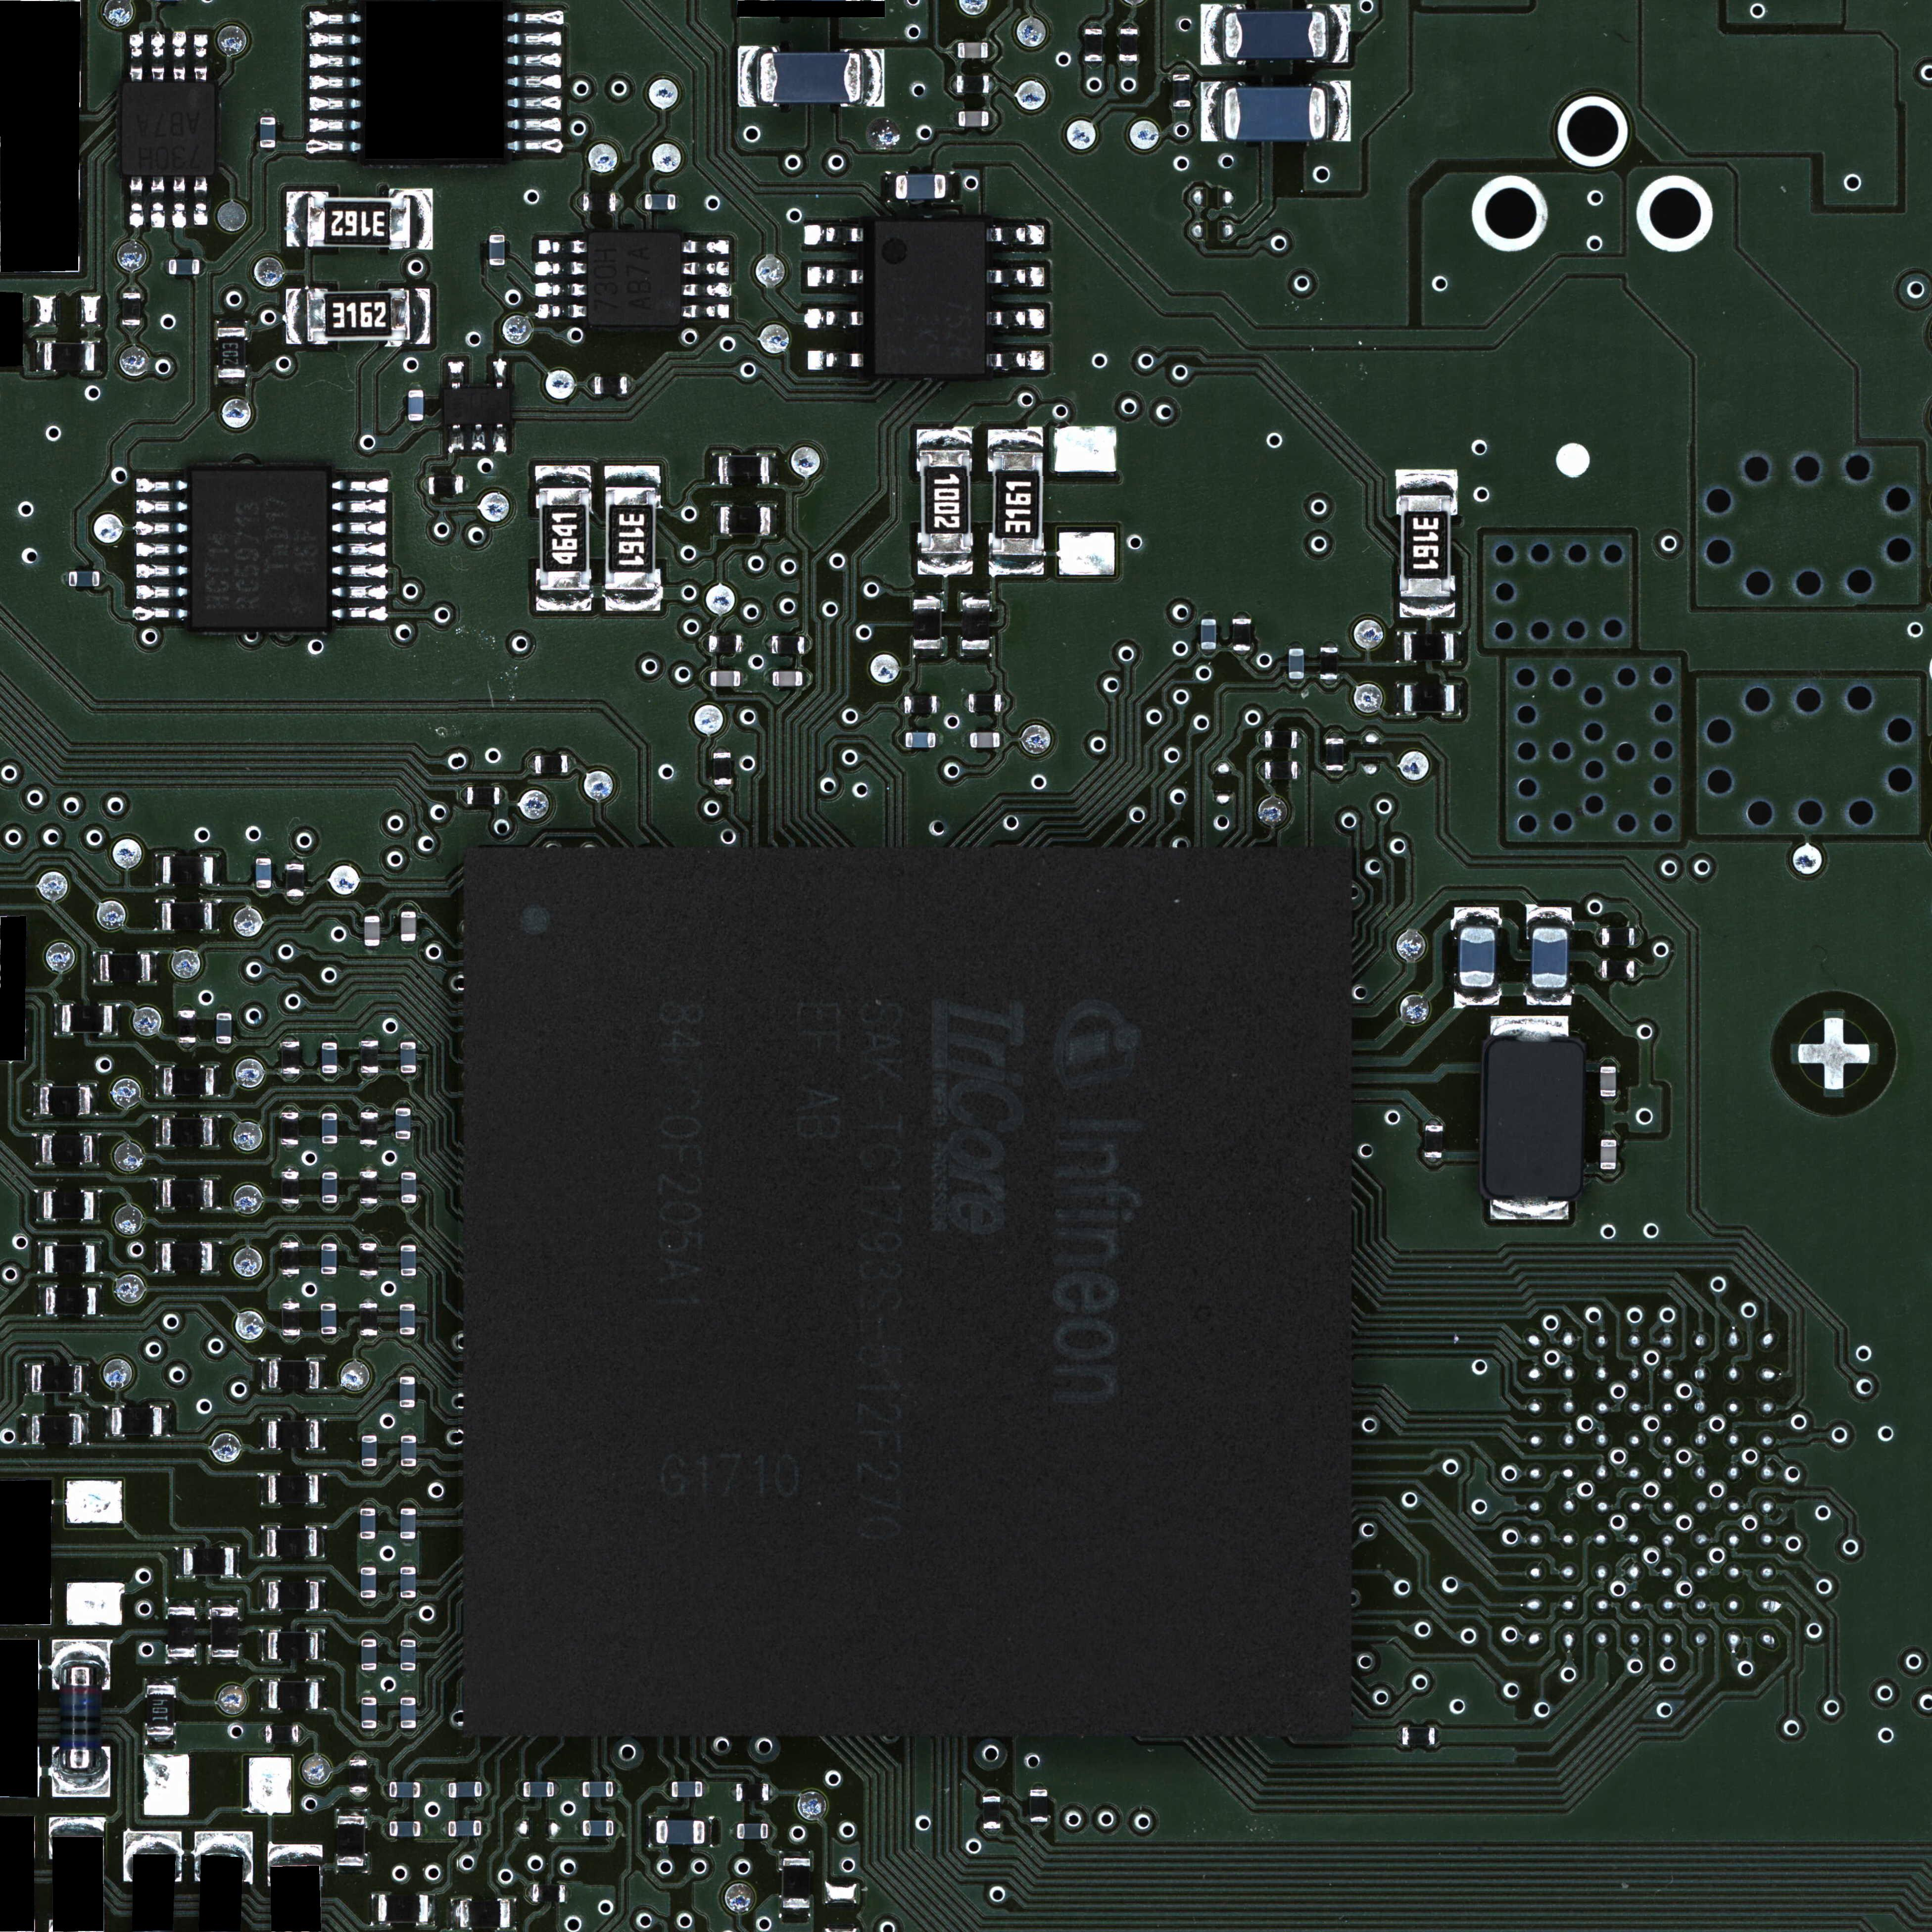Package: (465, 846, 1352, 1734), (189, 467, 329, 628), (872, 221, 985, 373), (1484, 1040, 1585, 1198), (587, 232, 681, 326), (120, 83, 216, 175), (989, 451, 1044, 556), (916, 451, 973, 552), (536, 488, 591, 591), (1399, 495, 1454, 596), (1224, 87, 1327, 140), (308, 196, 410, 248), (308, 290, 410, 341), (607, 488, 658, 589), (1224, 11, 1329, 58), (761, 53, 860, 103), (60, 1663, 101, 1773), (442, 389, 511, 423), (1460, 927, 1495, 987), (1532, 929, 1568, 987), (718, 455, 768, 485), (211, 1606, 239, 1658), (782, 1858, 810, 1909), (269, 1476, 318, 1504), (32, 1415, 81, 1444), (267, 1529, 317, 1557), (62, 1005, 111, 1033), (41, 1086, 90, 1115), (913, 598, 941, 648), (720, 506, 770, 534), (379, 1895, 428, 1923), (269, 1582, 318, 1610), (218, 327, 244, 379), (338, 1815, 364, 1867), (1405, 633, 1453, 662), (101, 954, 149, 982), (147, 1686, 175, 1734), (113, 1407, 161, 1435), (895, 173, 945, 200), (1405, 685, 1454, 711), (32, 1366, 81, 1392), (269, 1683, 318, 1709), (163, 902, 212, 929), (269, 1361, 318, 1387), (163, 1244, 212, 1270), (46, 1246, 96, 1272), (163, 856, 212, 883), (269, 1421, 318, 1447), (163, 1118, 212, 1145), (165, 1069, 214, 1095), (184, 1548, 234, 1575), (163, 1180, 212, 1207), (46, 1288, 96, 1315), (44, 343, 94, 370), (269, 1633, 318, 1660), (44, 1192, 94, 1219), (168, 1606, 195, 1656), (42, 1136, 92, 1162), (460, 1900, 510, 1927), (962, 600, 989, 649), (656, 1821, 704, 1844), (1424, 1123, 1444, 1159), (771, 635, 805, 655), (1325, 738, 1345, 771), (281, 1302, 301, 1336), (280, 1111, 299, 1145), (285, 863, 304, 897), (982, 1796, 1001, 1829), (122, 294, 142, 326), (534, 755, 568, 773), (1601, 961, 1635, 978), (713, 752, 731, 786), (1085, 28, 1102, 62), (359, 1242, 377, 1276), (265, 1725, 299, 1743), (359, 1302, 377, 1336), (1030, 1789, 1047, 1822), (281, 1040, 299, 1074), (582, 193, 616, 211), (1601, 927, 1635, 945), (968, 694, 1001, 711), (1401, 1727, 1435, 1744), (1173, 74, 1191, 108), (904, 695, 936, 713), (709, 635, 741, 653), (1120, 28, 1138, 60), (736, 1783, 768, 1801), (467, 787, 499, 805), (1320, 648, 1338, 679), (281, 1171, 299, 1203), (1233, 619, 1251, 651), (361, 1040, 379, 1072), (957, 76, 989, 94), (281, 1242, 299, 1274), (1265, 731, 1297, 748), (1265, 761, 1297, 778), (594, 377, 626, 395), (533, 1884, 564, 1902), (179, 1010, 196, 1042), (361, 1171, 379, 1203), (448, 1782, 481, 1798), (350, 1759, 366, 1792), (361, 1111, 377, 1145), (398, 1304, 416, 1334), (1288, 648, 1304, 679), (395, 1108, 410, 1139), (400, 1507, 416, 1539), (449, 1821, 481, 1836), (361, 1697, 377, 1729), (400, 1697, 416, 1729), (709, 671, 741, 686), (400, 1435, 416, 1467), (407, 389, 423, 421), (361, 1435, 377, 1467), (904, 732, 936, 748), (260, 117, 276, 147), (320, 1304, 336, 1334), (400, 911, 416, 941), (400, 1568, 416, 1598), (322, 1173, 338, 1203), (364, 916, 380, 947), (959, 42, 989, 58), (400, 1246, 416, 1276), (257, 858, 272, 888), (361, 1568, 377, 1598), (959, 111, 989, 127), (584, 1821, 614, 1836), (524, 1782, 554, 1798), (646, 195, 676, 211), (400, 1042, 416, 1072), (970, 732, 1000, 748), (1601, 1139, 1617, 1169), (672, 1782, 702, 1798), (400, 1640, 416, 1670), (216, 1014, 232, 1044), (389, 1821, 419, 1836), (389, 1782, 419, 1798), (582, 1782, 612, 1798), (361, 1640, 377, 1670), (402, 1171, 416, 1203), (361, 1507, 375, 1539), (168, 260, 200, 274), (322, 1042, 336, 1072), (738, 1824, 768, 1838), (69, 571, 99, 586), (400, 1376, 414, 1407), (773, 672, 803, 686), (322, 1113, 336, 1143), (322, 1244, 336, 1274), (490, 235, 504, 265), (1201, 619, 1215, 649), (1601, 1065, 1615, 1095)
Solder: (1491, 1016, 1569, 1040), (1490, 1198, 1569, 1221), (1396, 469, 1456, 494), (51, 1773, 111, 1798), (1201, 4, 1224, 65), (1327, 81, 1350, 142), (1201, 81, 1224, 142), (805, 306, 863, 329), (51, 1640, 110, 1663), (916, 426, 973, 449), (987, 428, 1044, 451), (410, 189, 432, 249), (738, 46, 759, 106), (805, 225, 863, 246), (987, 308, 1046, 329), (1329, 4, 1350, 62), (916, 554, 973, 575), (536, 591, 593, 612), (603, 591, 660, 612), (287, 191, 308, 248), (534, 465, 591, 487), (807, 265, 863, 287), (287, 288, 308, 343), (987, 350, 1044, 370), (987, 225, 1044, 244), (987, 267, 1044, 287), (863, 50, 883, 106), (807, 350, 863, 370), (1399, 598, 1454, 617), (605, 465, 660, 485), (410, 288, 430, 343), (269, 1845, 322, 1865), (50, 1817, 104, 1835), (126, 1835, 180, 1852), (1454, 906, 1499, 927), (1527, 906, 1571, 927), (991, 557, 1044, 575), (306, 138, 363, 154), (508, 11, 564, 27), (508, 32, 563, 48), (508, 53, 563, 69), (508, 74, 563, 90), (508, 96, 563, 111), (508, 117, 563, 133), (508, 138, 563, 154), (196, 1835, 251, 1851), (1453, 987, 1500, 1005), (333, 541, 386, 557), (134, 520, 188, 536), (310, 11, 363, 27), (310, 32, 363, 48), (310, 53, 363, 69), (310, 74, 363, 90), (310, 96, 363, 111), (310, 117, 363, 133), (136, 586, 188, 602), (534, 260, 586, 276), (536, 281, 587, 297), (136, 563, 188, 579), (136, 541, 188, 557), (1527, 987, 1573, 1005), (331, 478, 387, 492), (538, 239, 587, 255), (538, 303, 587, 318), (333, 586, 387, 600), (333, 564, 387, 579), (333, 607, 387, 621), (193, 177, 209, 225), (134, 607, 188, 621), (333, 520, 386, 534), (333, 499, 386, 513), (683, 260, 729, 276), (683, 239, 729, 255), (136, 478, 188, 492), (129, 177, 143, 228), (150, 177, 165, 228), (172, 177, 186, 228), (172, 32, 186, 81), (150, 32, 165, 81), (193, 34, 207, 81), (129, 34, 143, 81), (683, 283, 729, 297), (683, 304, 729, 318), (136, 501, 188, 513), (448, 423, 464, 453), (448, 361, 464, 389), (471, 423, 485, 451), (494, 423, 508, 451), (494, 359, 506, 387), (885, 172, 895, 202), (947, 172, 957, 202), (449, 1898, 460, 1928), (768, 453, 777, 485), (911, 649, 943, 658), (709, 453, 718, 485), (318, 1357, 327, 1389), (260, 1679, 269, 1711), (81, 1414, 90, 1445), (37, 1242, 46, 1274), (92, 952, 101, 984), (156, 1065, 165, 1097), (161, 1405, 170, 1437), (145, 1677, 177, 1686), (260, 1474, 269, 1506), (1454, 632, 1463, 662), (1454, 685, 1463, 715), (648, 1817, 656, 1847), (961, 649, 991, 658), (1396, 685, 1405, 715), (260, 1359, 269, 1389), (35, 1191, 44, 1221), (34, 1134, 42, 1164), (704, 1817, 713, 1847), (711, 506, 720, 536), (94, 343, 103, 372), (35, 341, 44, 370), (218, 379, 246, 387), (37, 1286, 46, 1315), (96, 1286, 104, 1315), (770, 506, 778, 534), (209, 1599, 241, 1606), (318, 1472, 326, 1504), (262, 1417, 269, 1449), (165, 1656, 196, 1663), (207, 1658, 239, 1665), (318, 1580, 326, 1612), (262, 1580, 269, 1612), (262, 1629, 269, 1661), (111, 1005, 119, 1037), (150, 952, 157, 984), (214, 1065, 221, 1097), (156, 1115, 163, 1146), (156, 1178, 163, 1210), (156, 1240, 163, 1272), (336, 1808, 368, 1815), (780, 1909, 810, 1916), (780, 1851, 810, 1858), (961, 591, 991, 598), (1396, 632, 1403, 662), (25, 1414, 32, 1444), (166, 1599, 196, 1606), (318, 1419, 326, 1449), (317, 1527, 324, 1557), (318, 1629, 326, 1660), (318, 1679, 326, 1709), (81, 1364, 88, 1394), (25, 1364, 32, 1394), (94, 1191, 101, 1221), (92, 1134, 99, 1164), (34, 1085, 41, 1115), (90, 1085, 97, 1115), (55, 1005, 62, 1035), (156, 901, 163, 931), (212, 901, 219, 931), (212, 855, 219, 885), (156, 855, 163, 885), (212, 1116, 219, 1146), (212, 1242, 219, 1272), (104, 1407, 111, 1437), (510, 1898, 517, 1928), (147, 1736, 175, 1743), (218, 320, 246, 327), (428, 1895, 435, 1923), (372, 1895, 379, 1923), (234, 1548, 241, 1576), (177, 1548, 184, 1576), (212, 1180, 219, 1208), (1422, 1159, 1442, 1168), (262, 1525, 267, 1557), (913, 591, 943, 596), (336, 1867, 366, 1872), (96, 1242, 101, 1272), (281, 1203, 299, 1212), (281, 1233, 299, 1242), (281, 1274, 299, 1283), (320, 1295, 338, 1304), (398, 1295, 416, 1304), (398, 1407, 416, 1415), (400, 1467, 418, 1476), (361, 1426, 379, 1435), (255, 849, 272, 858), (897, 731, 906, 748), (936, 695, 945, 713), (400, 1428, 416, 1437), (637, 193, 646, 209), (322, 1143, 338, 1152), (400, 1276, 416, 1284), (260, 108, 276, 117), (361, 1467, 377, 1476), (400, 1670, 416, 1679), (361, 1670, 377, 1679), (361, 1729, 377, 1737), (400, 1729, 416, 1737), (419, 1782, 428, 1798), (441, 1782, 449, 1798), (481, 1782, 490, 1798), (419, 1821, 428, 1836), (568, 755, 577, 771), (1424, 1116, 1444, 1123), (587, 375, 594, 395), (628, 375, 635, 395), (280, 1164, 299, 1171), (359, 1500, 377, 1507), (1599, 1097, 1617, 1104), (936, 731, 943, 748), (1599, 1058, 1617, 1065), (1599, 1169, 1617, 1177), (488, 228, 506, 235), (1120, 60, 1138, 67), (1233, 612, 1251, 619), (361, 1072, 379, 1079), (395, 1139, 412, 1146), (361, 1203, 379, 1210), (359, 1276, 377, 1283), (320, 1237, 338, 1244), (60, 571, 69, 586), (320, 1334, 338, 1341), (398, 1334, 416, 1341), (359, 1539, 377, 1546), (400, 1633, 418, 1640), (255, 888, 272, 895), (285, 856, 303, 863), (179, 1003, 196, 1010), (179, 1042, 196, 1049), (216, 1044, 234, 1051), (729, 1824, 738, 1838), (525, 1884, 533, 1902), (564, 1884, 571, 1902), (1435, 1727, 1442, 1744), (1599, 1132, 1617, 1139), (400, 941, 418, 948), (897, 695, 904, 713), (962, 694, 970, 711), (460, 787, 467, 805), (400, 1035, 416, 1042), (322, 1035, 338, 1042), (400, 904, 416, 911), (488, 265, 504, 272), (950, 42, 957, 58), (989, 42, 996, 58), (989, 76, 996, 92), (950, 76, 957, 92), (1322, 679, 1338, 686), (1322, 640, 1338, 648), (1258, 763, 1265, 778), (361, 1033, 377, 1040), (361, 1145, 377, 1152), (322, 1106, 338, 1113), (281, 1145, 297, 1152), (322, 1203, 338, 1210), (322, 1164, 338, 1171), (400, 1238, 416, 1246), (320, 1274, 336, 1281), (161, 258, 168, 274), (361, 1336, 377, 1343), (400, 1369, 416, 1376), (400, 1539, 416, 1546), (361, 1598, 377, 1605), (361, 1559, 377, 1566), (400, 1598, 416, 1605), (400, 1559, 416, 1566), (361, 1690, 377, 1697), (400, 1690, 416, 1697), (350, 1792, 366, 1799), (481, 1821, 488, 1836), (441, 1821, 448, 1836), (216, 1005, 232, 1012), (554, 1782, 561, 1798), (665, 1782, 672, 1798), (768, 1785, 775, 1801), (1635, 961, 1642, 977), (766, 671, 773, 686), (764, 635, 771, 651), (741, 671, 748, 686), (702, 671, 709, 686), (702, 635, 709, 651), (499, 787, 506, 803), (359, 1237, 379, 1242), (122, 287, 142, 292), (99, 571, 106, 586), (409, 382, 423, 389), (676, 195, 683, 209), (1201, 649, 1215, 656), (1201, 612, 1215, 619), (1258, 731, 1265, 745), (322, 1072, 336, 1079), (363, 1633, 377, 1640), (382, 1822, 389, 1836), (702, 1782, 709, 1796), (729, 1785, 736, 1799), (1120, 23, 1138, 28), (1173, 69, 1191, 74), (1286, 642, 1304, 648), (1233, 651, 1251, 656), (395, 1102, 412, 1108), (361, 1166, 379, 1171), (400, 1166, 418, 1171), (124, 326, 142, 331), (281, 1336, 299, 1341), (299, 1725, 304, 1743), (260, 1725, 265, 1743), (1396, 1727, 1401, 1744), (803, 671, 809, 686), (400, 1502, 416, 1507), (577, 195, 582, 211), (616, 195, 621, 211), (1086, 62, 1102, 67), (1086, 23, 1102, 28), (1288, 679, 1304, 685), (1327, 771, 1343, 777), (1327, 732, 1343, 738), (281, 1035, 297, 1040), (400, 1074, 416, 1079), (361, 1106, 377, 1111), (281, 1106, 297, 1111), (400, 1203, 416, 1208), (260, 149, 276, 154), (283, 1297, 299, 1302), (361, 1297, 377, 1302), (350, 1753, 366, 1759), (384, 1782, 389, 1798), (518, 1782, 524, 1798), (984, 1829, 1000, 1835), (984, 1790, 1000, 1796), (1031, 1822, 1047, 1828), (1596, 961, 1601, 977), (1596, 929, 1601, 945), (1635, 929, 1640, 945), (364, 909, 380, 915), (364, 947, 380, 952), (805, 635, 810, 651), (713, 747, 729, 752), (715, 786, 731, 791), (1001, 695, 1007, 711), (1000, 732, 1005, 748), (964, 732, 970, 748), (529, 755, 534, 771), (283, 1074, 297, 1079), (409, 421, 423, 426), (989, 111, 994, 126), (954, 111, 959, 126), (1297, 731, 1302, 745), (1297, 763, 1302, 777), (200, 260, 205, 274), (288, 897, 303, 902), (612, 1782, 617, 1796), (768, 1824, 773, 1838), (1031, 1783, 1046, 1789), (741, 637, 747, 651), (1173, 108, 1191, 111), (579, 1782, 582, 1798), (579, 1821, 582, 1836), (614, 1821, 617, 1836)
